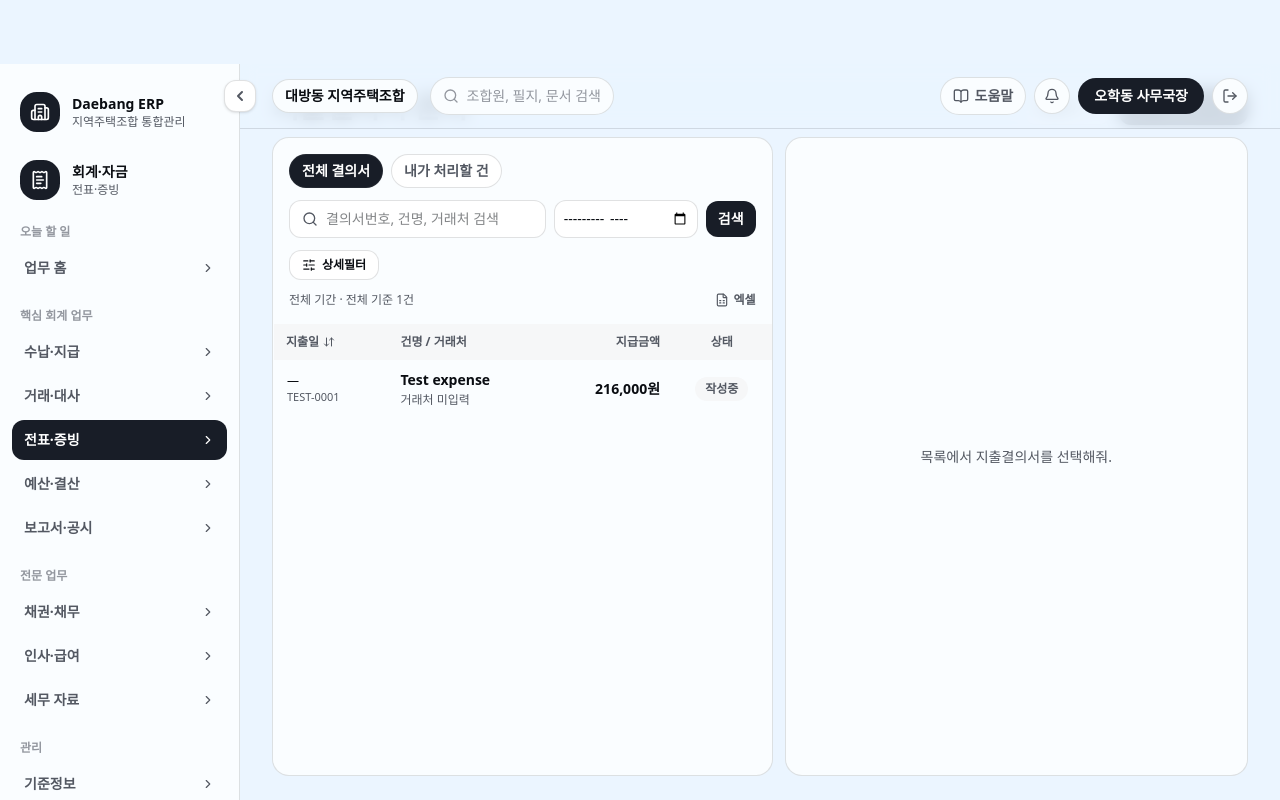
ExpenseResolutionPage › does not count bank descriptions as uploaded evidence files
Click the button with aria-label "상세보기" at (470, 380), box x1=400 y1=370 x2=541 y2=390
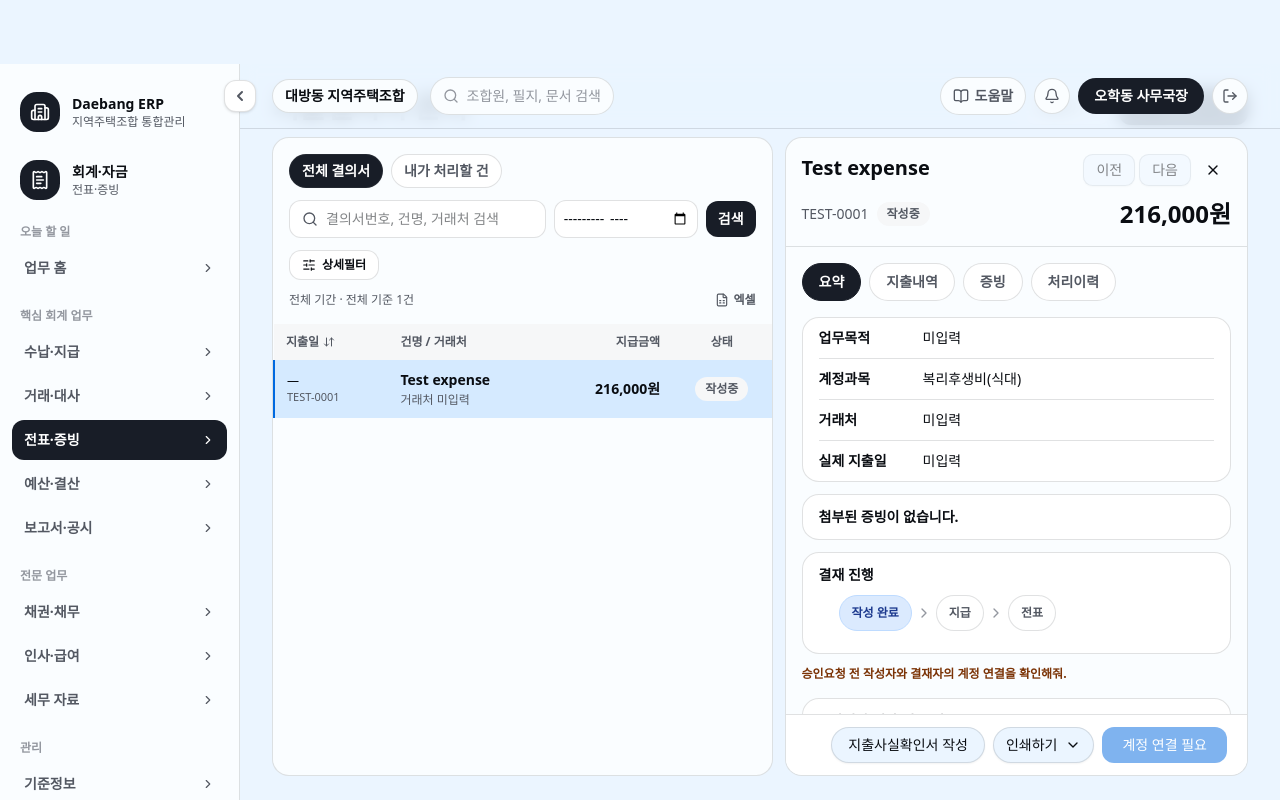
Click the button "증빙" at (993, 282), box x1=963 y1=263 x2=1023 y2=301
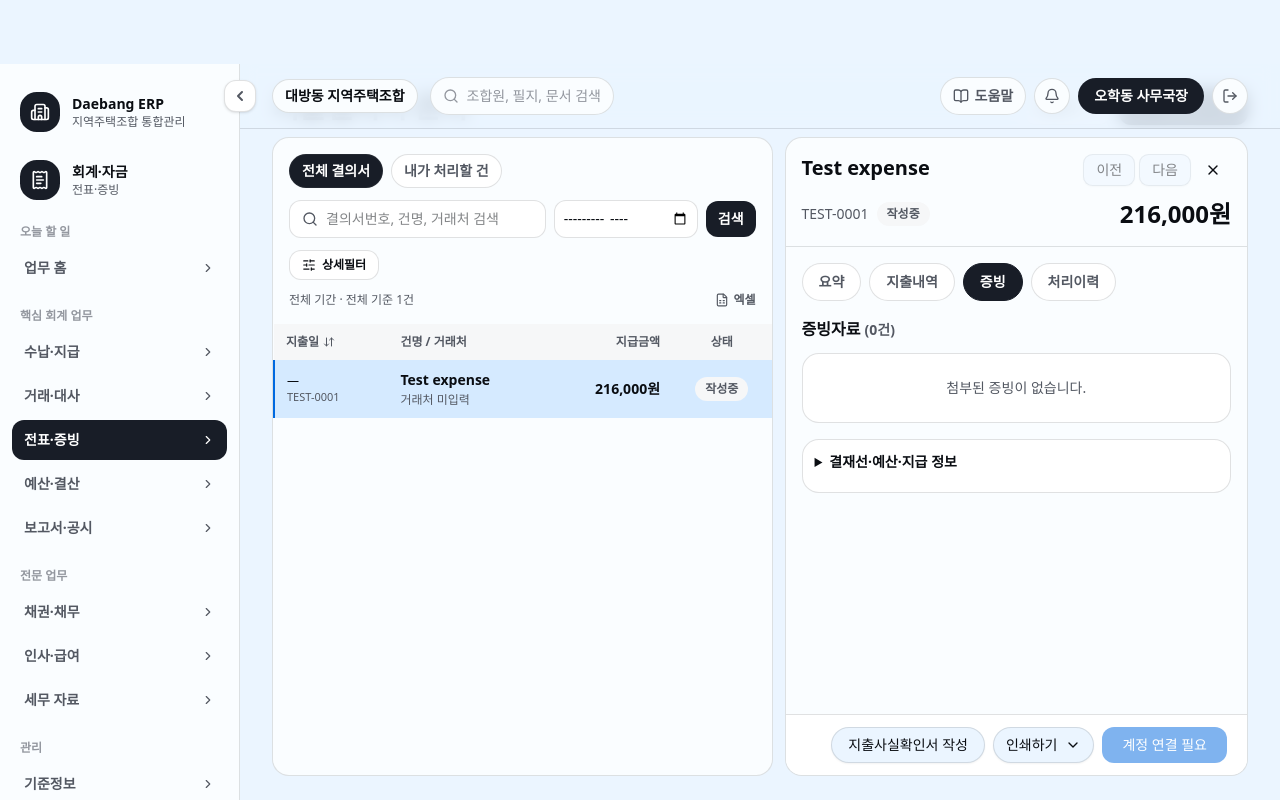
Check: the text "첨부된 증빙이 없습니다." is shown, box x1=946 y1=378 x2=1086 y2=397
Check: the heading "증빙자료 (0건)" is shown, box x1=802 y1=318 x2=895 y2=340
